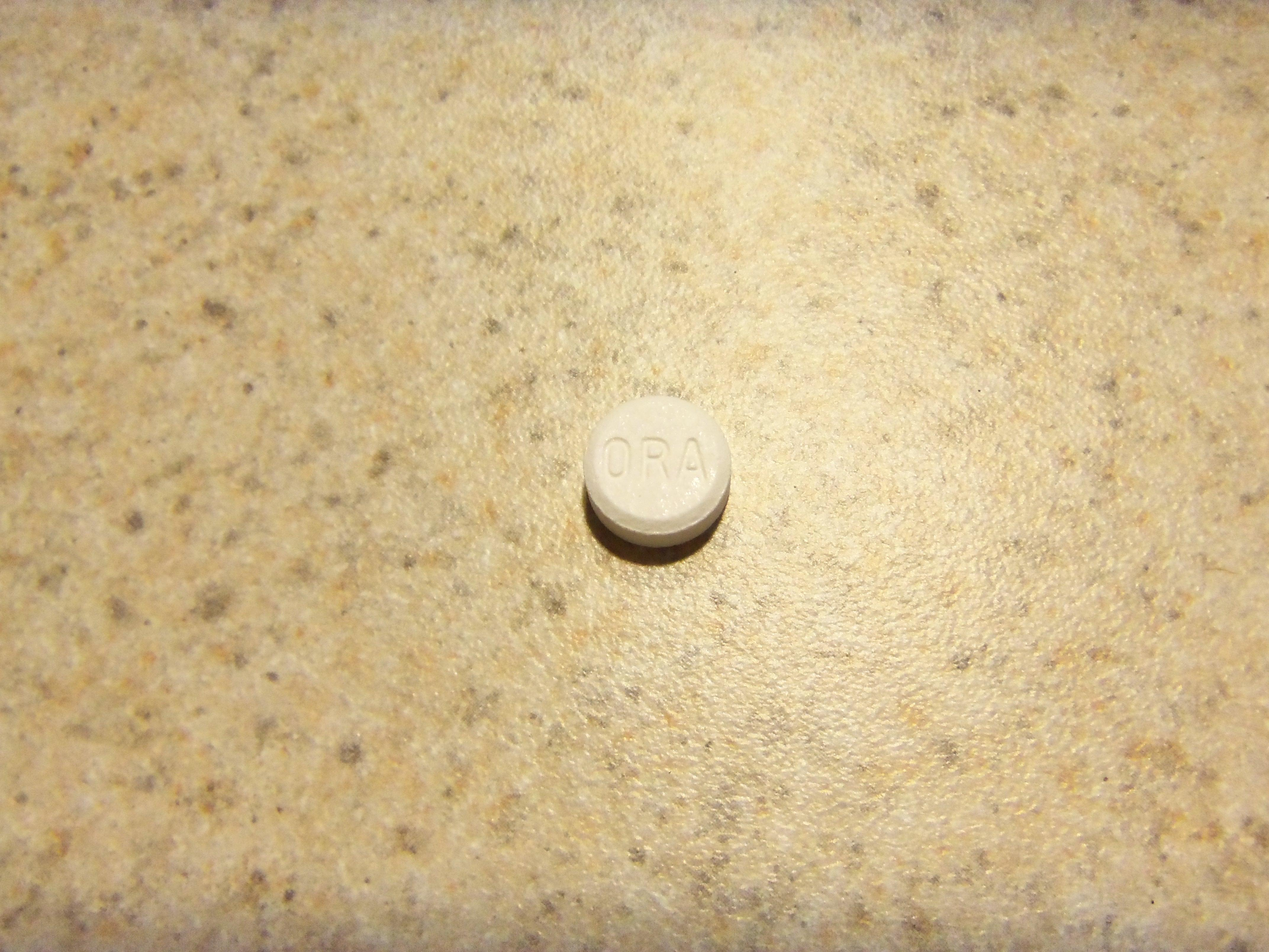Pill: (577, 389, 737, 557)
